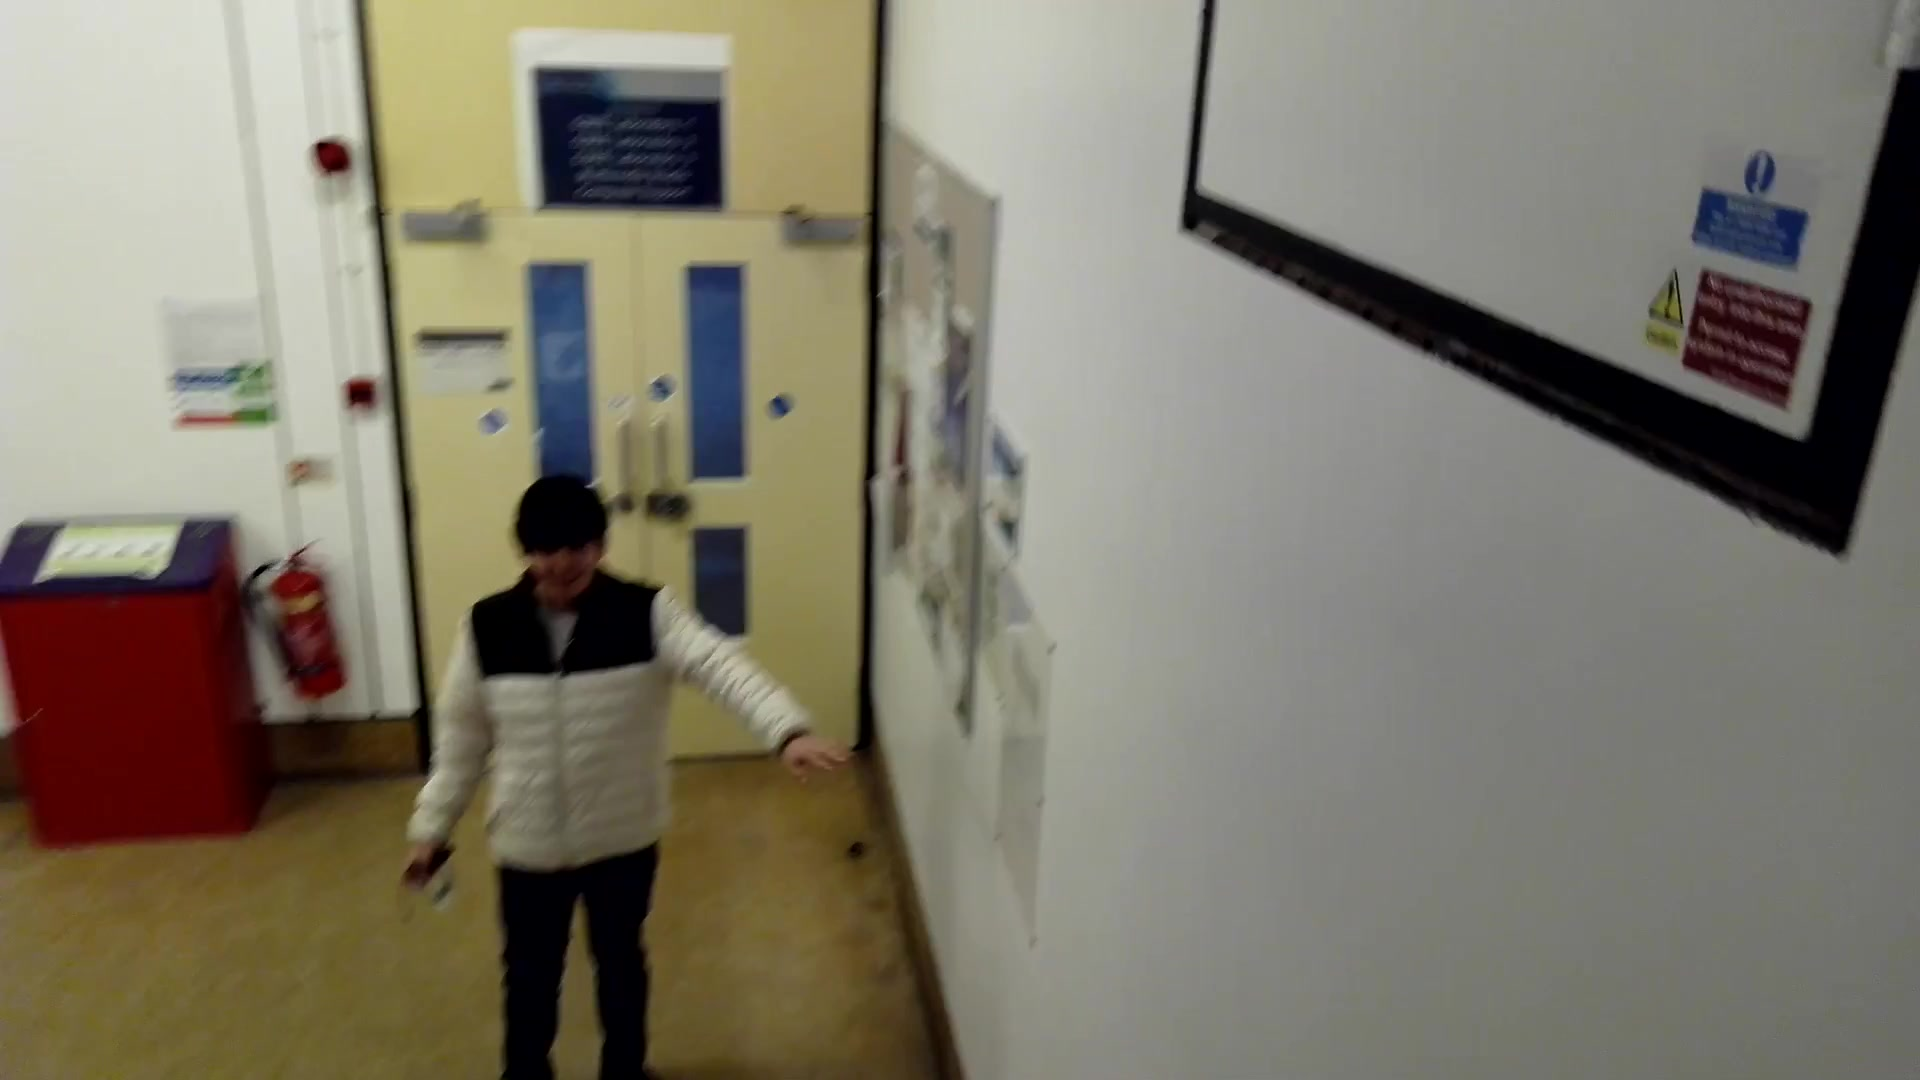Bin: (5, 514, 280, 851)
Person: (472, 481, 817, 1065)
